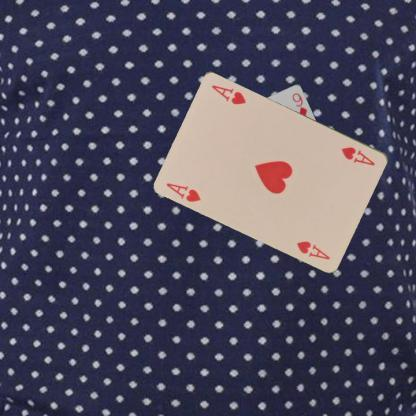Ah: (164, 180, 203, 203), (338, 144, 376, 167)
